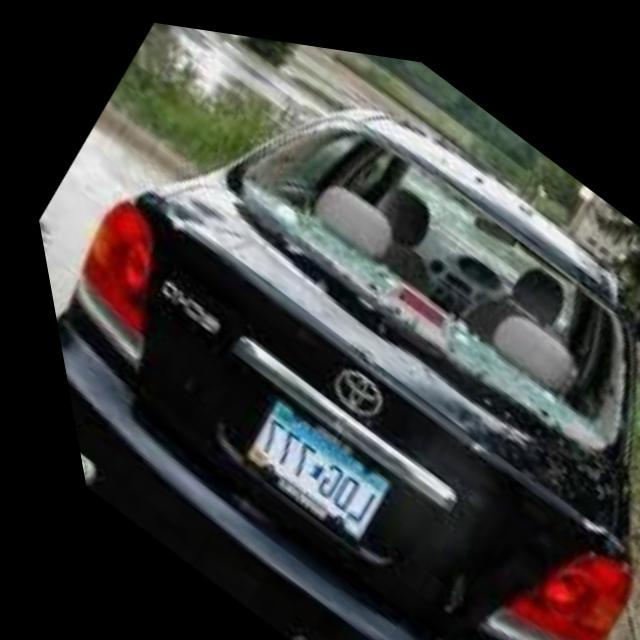glass shatter: (222, 108, 613, 440)
